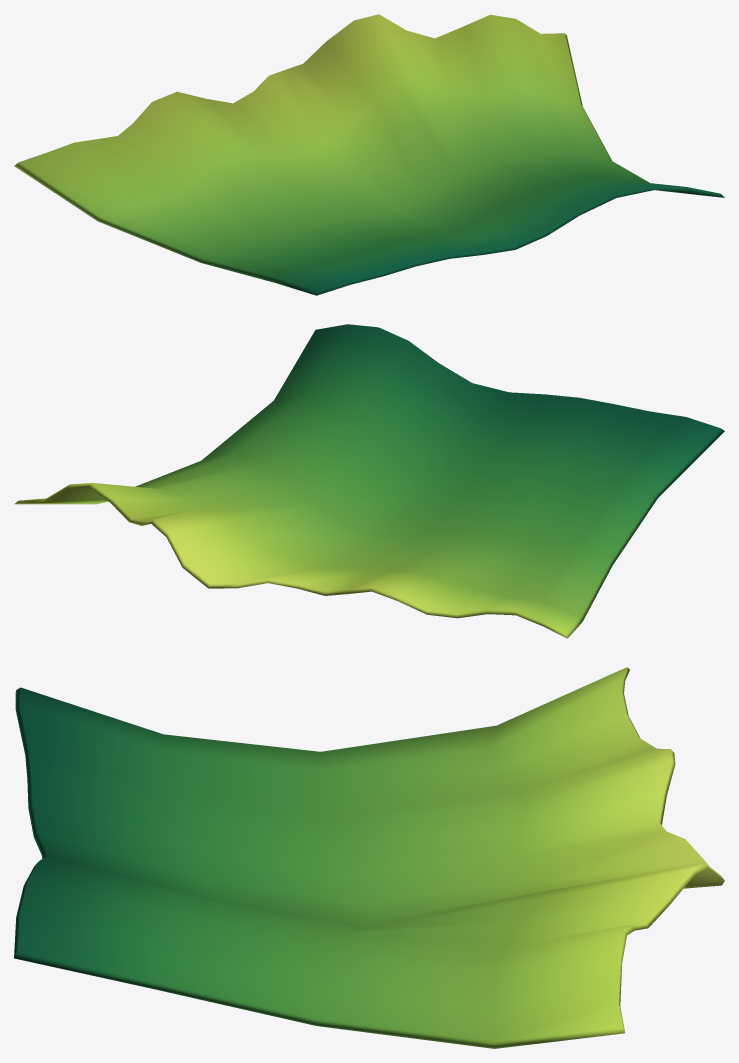
The model's file is greens_001.fbx.
The picture shows the model from 3 angles, top to bottom: view 1: azimuth 30°, elevation 25°; view 2: azimuth 150°, elevation 25°; view 3: azimuth 270°, elevation 25°; orthographic projection. The views are drawn at different scales.
Visible parts, largest first — view 1: greens_001; view 2: greens_001; view 3: greens_001.
Boxes of the visible parts, x1,y1,x2,y2 form: greens_001: [14, 14, 724, 295]; greens_001: [14, 324, 724, 638]; greens_001: [14, 667, 724, 1048].
Bounding box in the file's own units: 17.74 × 14.8 × 2.66.
